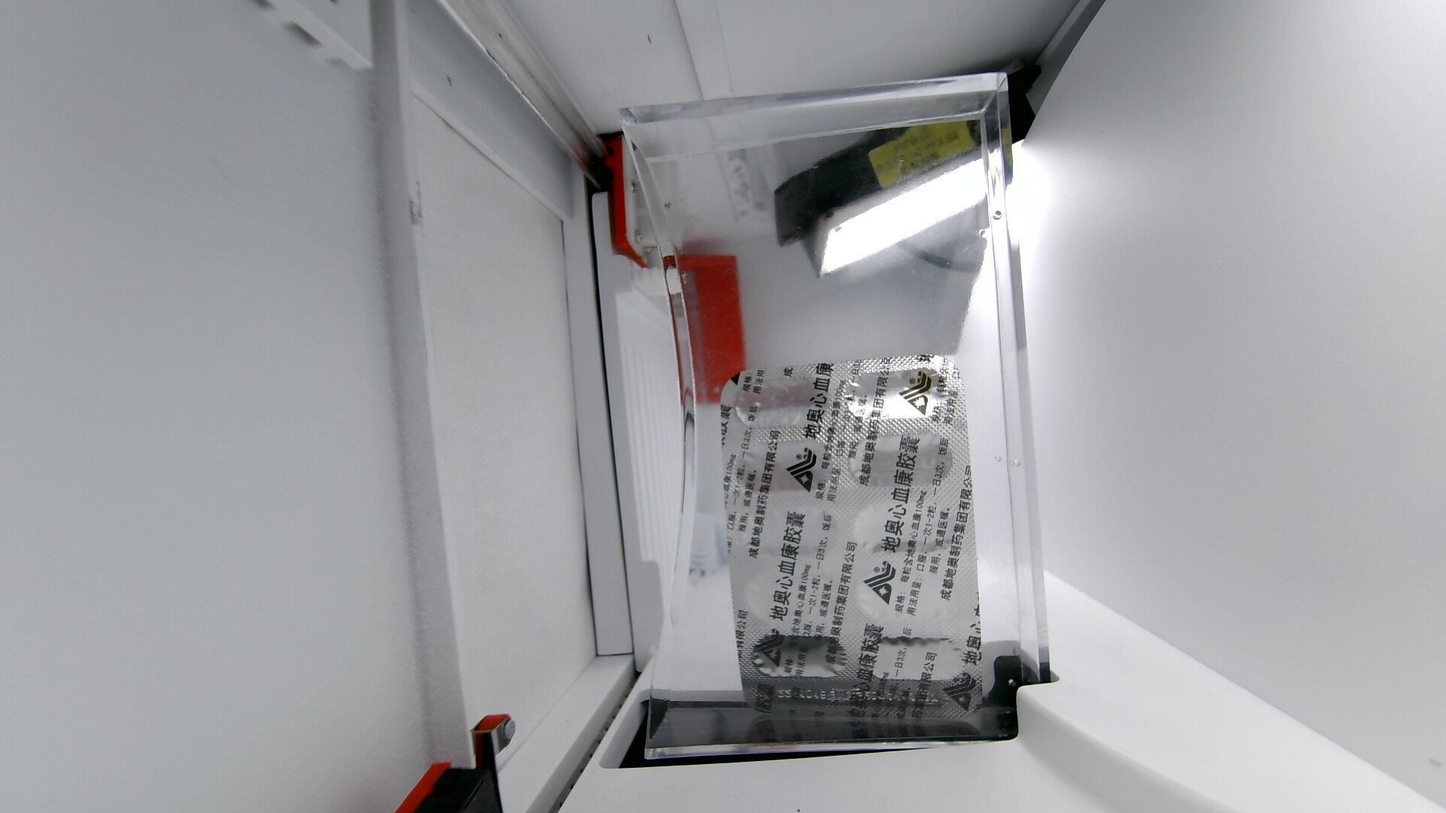Pill Back: (844, 496, 958, 557), (844, 428, 955, 490), (840, 361, 951, 421), (737, 502, 838, 563), (852, 562, 965, 614), (734, 373, 835, 430), (869, 633, 970, 687), (750, 629, 853, 681), (746, 572, 847, 623), (736, 437, 831, 490)
